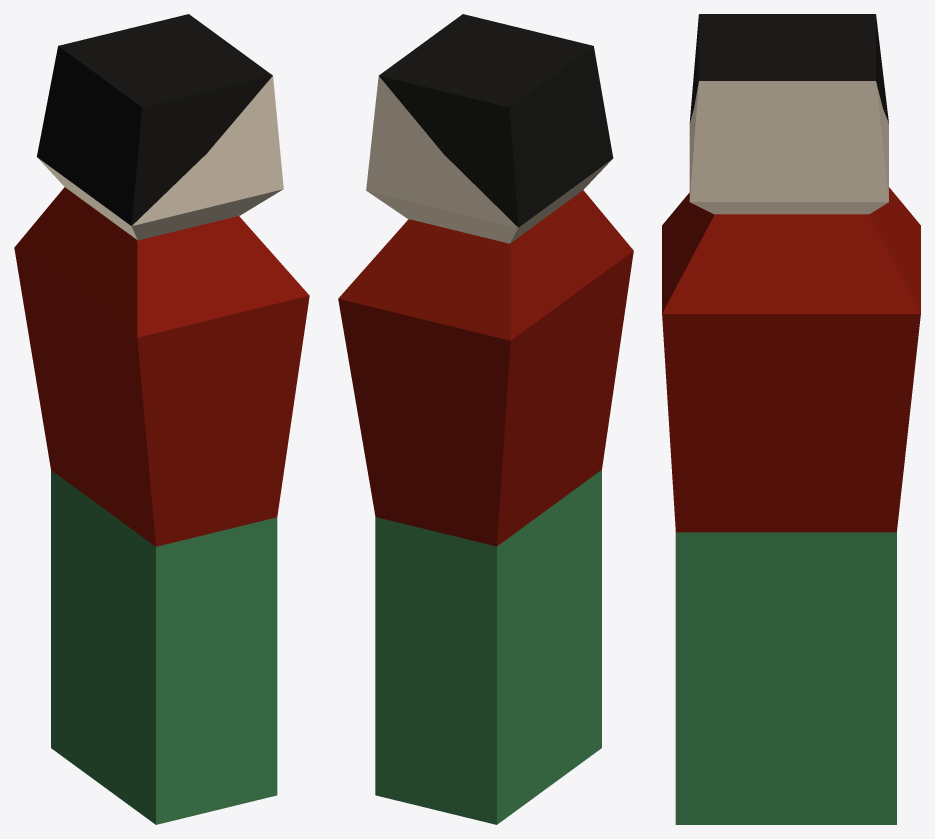
File: person2.gltf
3 views of the same model, side by side, from view 1: azimuth 30°, elevation 25°; view 2: azimuth 150°, elevation 25°; view 3: azimuth 270°, elevation 25° (orthographic). The views are drawn at different scales.
Parts seen in each view (by area): view 1: person2; view 2: person2; view 3: person2.
Part boxes in pixels (x1,y1,x2,y2): person2: [14, 14, 309, 824]; person2: [338, 14, 633, 824]; person2: [662, 14, 920, 824].
Size of the model in its own units: 0.5687 by 2.24 by 0.7027.
Materials: 1 (1 with a texture image).
